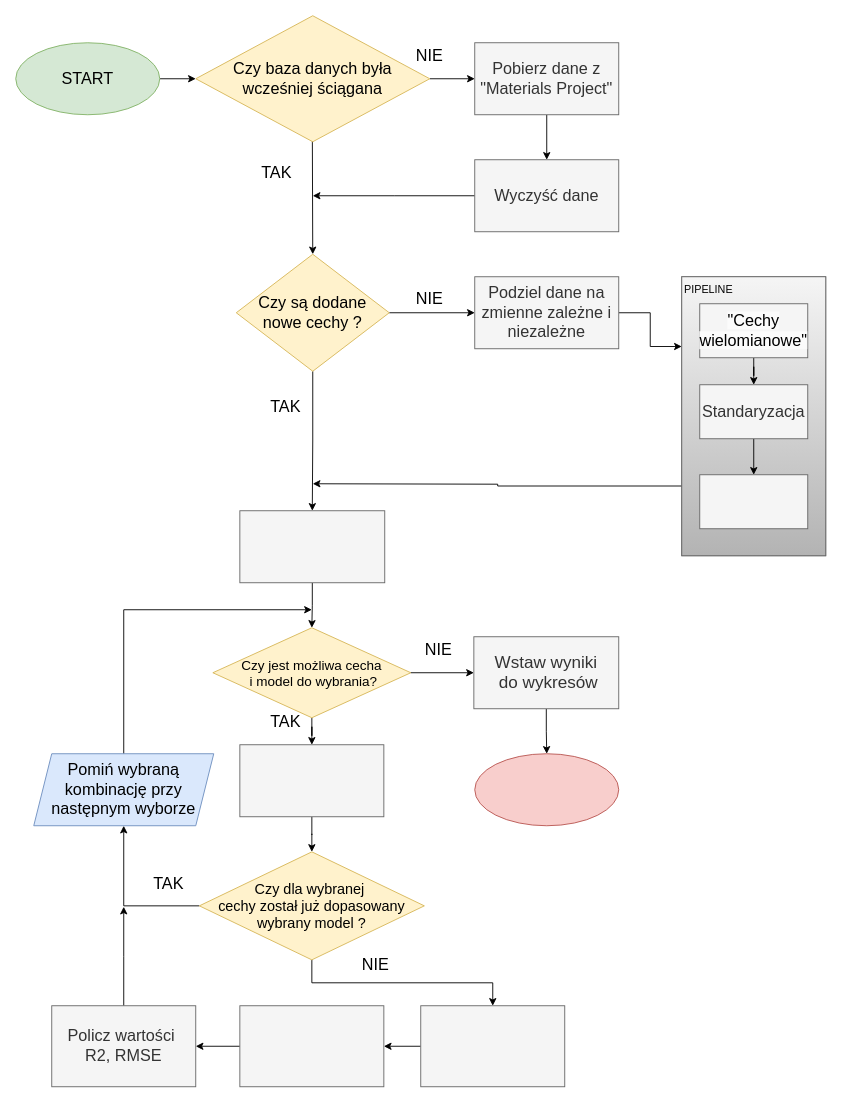
This 842x1103 diagram has some shape labels left out. The centre of each missing label's shape, as x and y in pixels:
"Dopasuj optymalną konfigurację do modelu" belongs at point 311,1046.
"Podziel dane TEST - TRAIN" belongs at point 492,1046.
"Przygotuj modele oraz skonfiguruj hiperparametry" belongs at point 312,546.
"Redukcja wymiarowości" belongs at point 753,501.
"STOP" belongs at point 546,789.
"Wybierz cechę i model" belongs at point 311,780.
